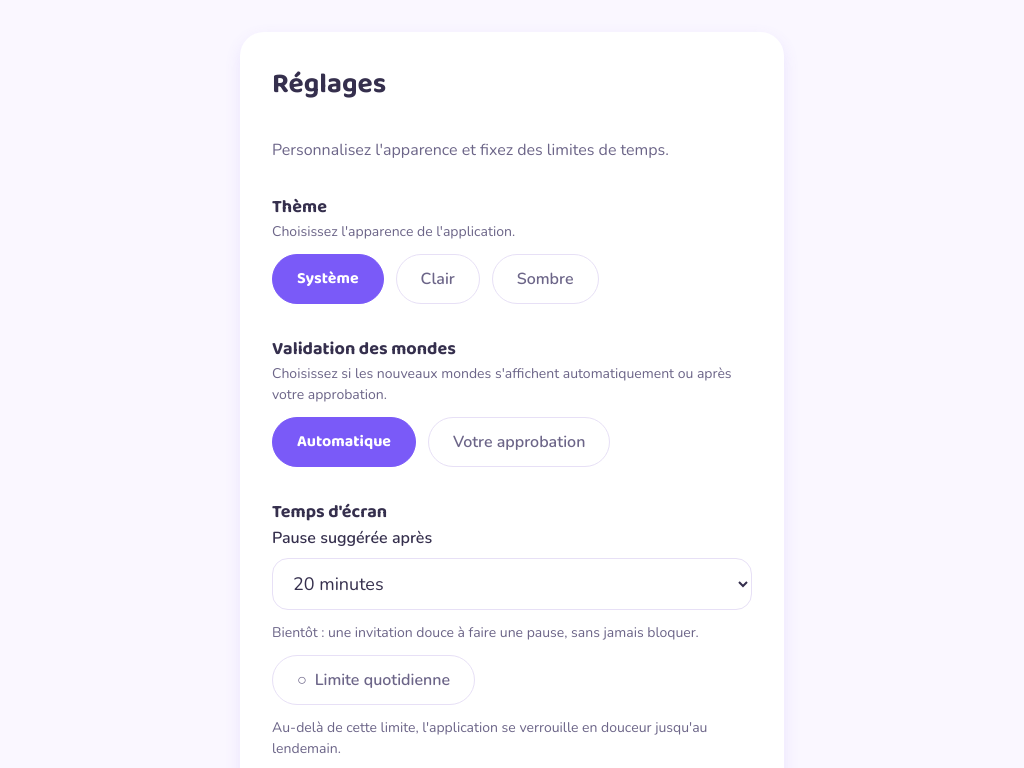
Scenario: SettingsForm — thème AGIT immédiatement (data-theme app-wide) › sélectionner « Sombre » ⇒ data-theme=dark + saveSettingsAction({theme:dark}) + refresh + confirmation
Click the button "Sombre" at (545, 279), box [492, 254, 599, 304]
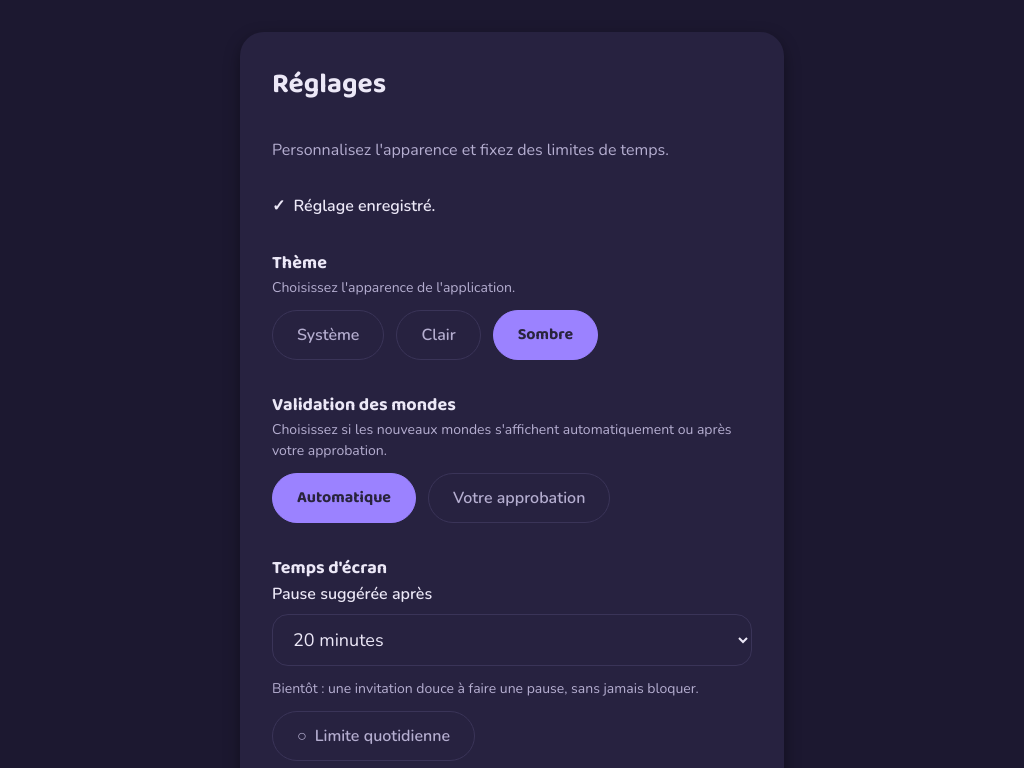
Expected: the message shows "Réglage enregistré.", [293, 195, 435, 217]
